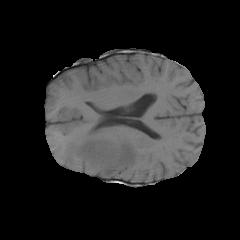glioma: (62, 127, 138, 176)
